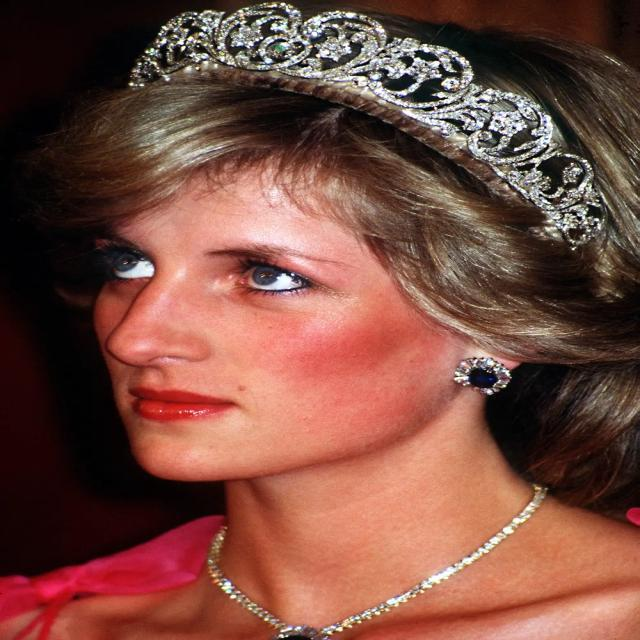Earring: (440, 342, 524, 408)
